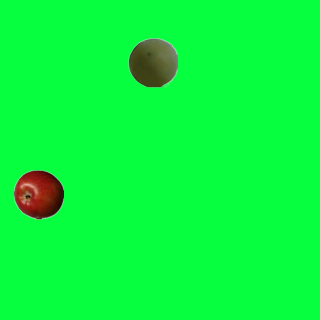Apple Braeburn: (13, 169, 63, 219)
Grape White 4: (127, 37, 177, 87)
